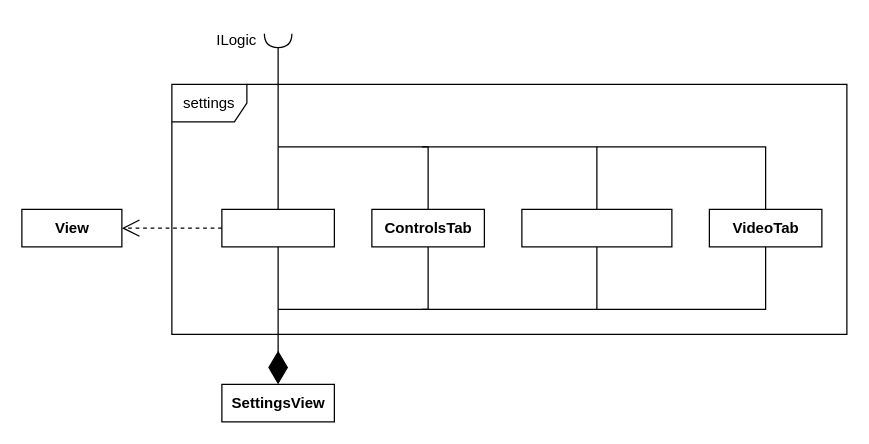
Some shapes in this 869 by 444 pixel diagram are drawn without their labels. The box of each missing label's shape, as (x1, y1, x2, y2) in pixels:
AudioTab: (221, 208, 334, 247)
CustomizationTab: (521, 208, 672, 247)
